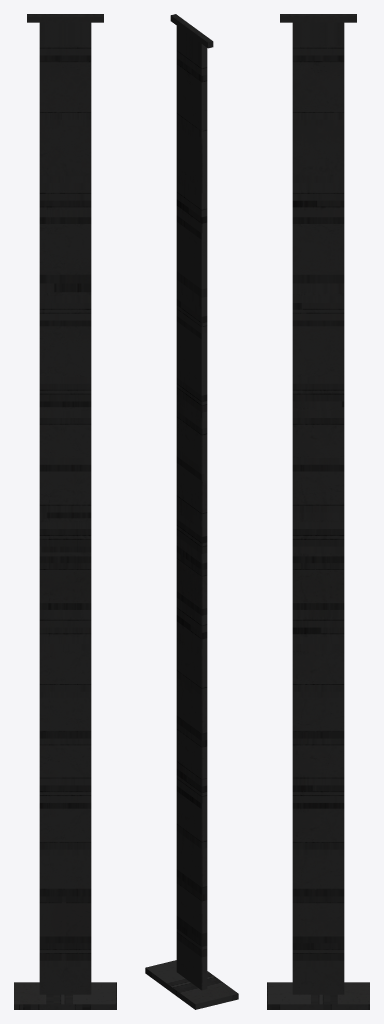
The picture shows the model from 3 angles, left to right: view 1: azimuth 90°, elevation 25°; view 2: azimuth 210°, elevation 25°; view 3: azimuth 270°, elevation 25°; orthographic projection. The views are drawn at different scales.
Visible parts, largest first — view 1: railing_42_post; view 2: railing_42_post; view 3: railing_42_post.
Boxes of the visible parts, <box> form: railing_42_post: <box>14,14,116,1009</box>; railing_42_post: <box>145,14,238,1009</box>; railing_42_post: <box>267,14,369,1009</box>.
Bounding box in the file's own units: 2 × 42.25 × 4.
Materials: 1 (1 with a texture image).
